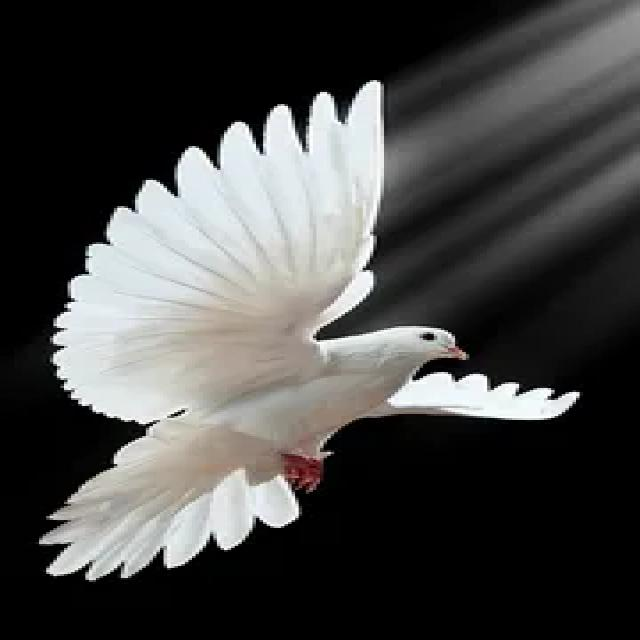pigeon: (0, 69, 640, 593)
